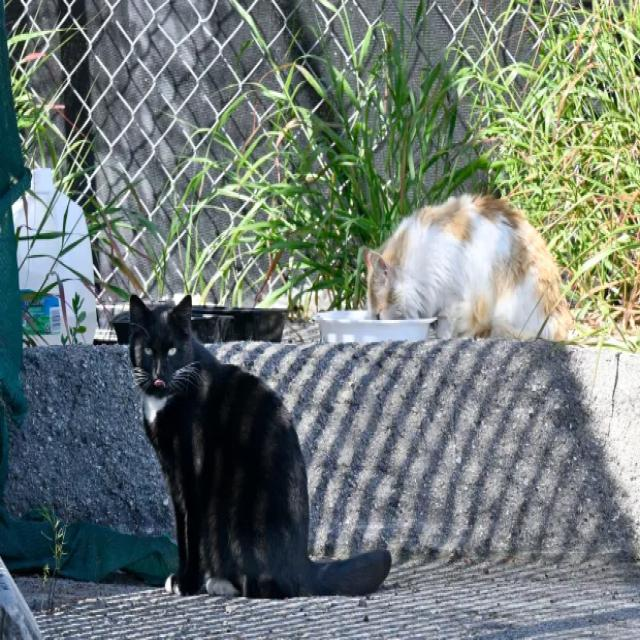cat: (129, 296, 391, 597), (364, 195, 572, 340)
